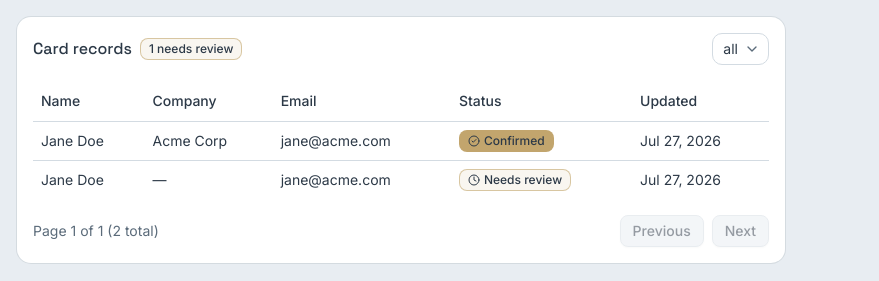
Test case: CardsListPage — filter and pagination › lists all records by default, then filters to only needs_review
expect the text "Page 1 of 1 (2 total)" is shown: met, box [33,220,159,240]
expect the number of rows is 3: met, box [33,81,769,121]; [33,121,769,160]; [33,160,769,198]
Click the dropdown: (741,49) [712,33,769,65]
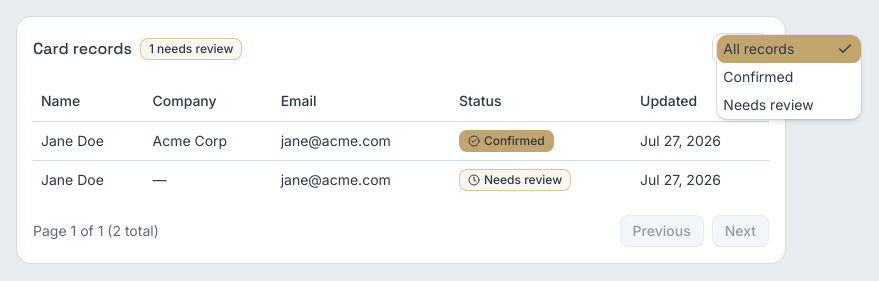
Click the option "Needs review": (768,104) [723,96,814,113]
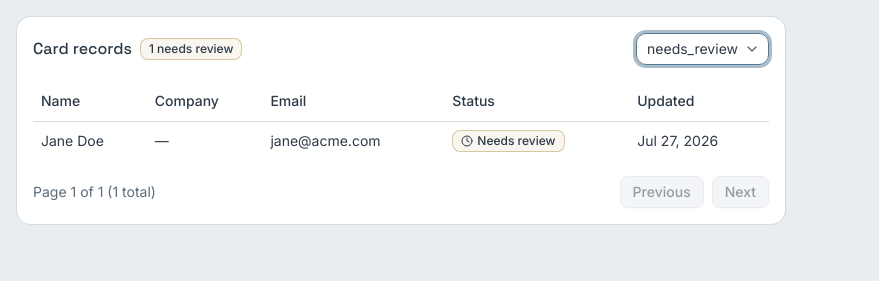
expect the text "Page 1 of 1 (1 total)" is shown: met, box [33,182,156,202]
expect the number of rows is 2: met, box [33,81,769,121]; [33,121,769,160]
